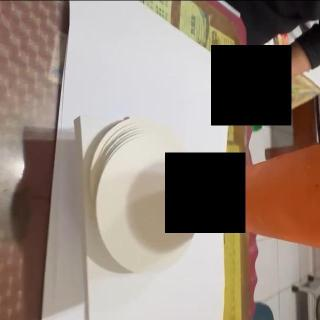carrot: (196, 140, 320, 252)
